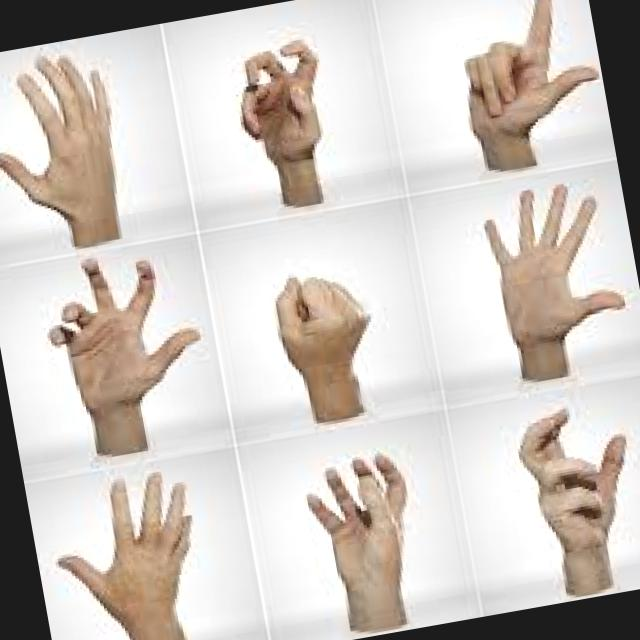Hand: (466, 167, 640, 395), (31, 459, 232, 640), (434, 0, 612, 181), (0, 39, 138, 266), (502, 392, 640, 607), (218, 27, 351, 220), (290, 444, 429, 614), (264, 256, 380, 381)
